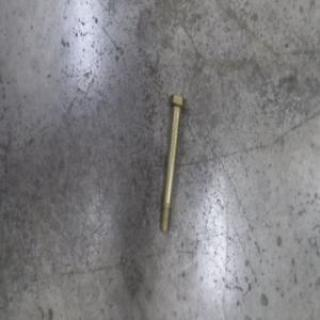Bolttrack_idkeyframe: (157, 92, 185, 234)
